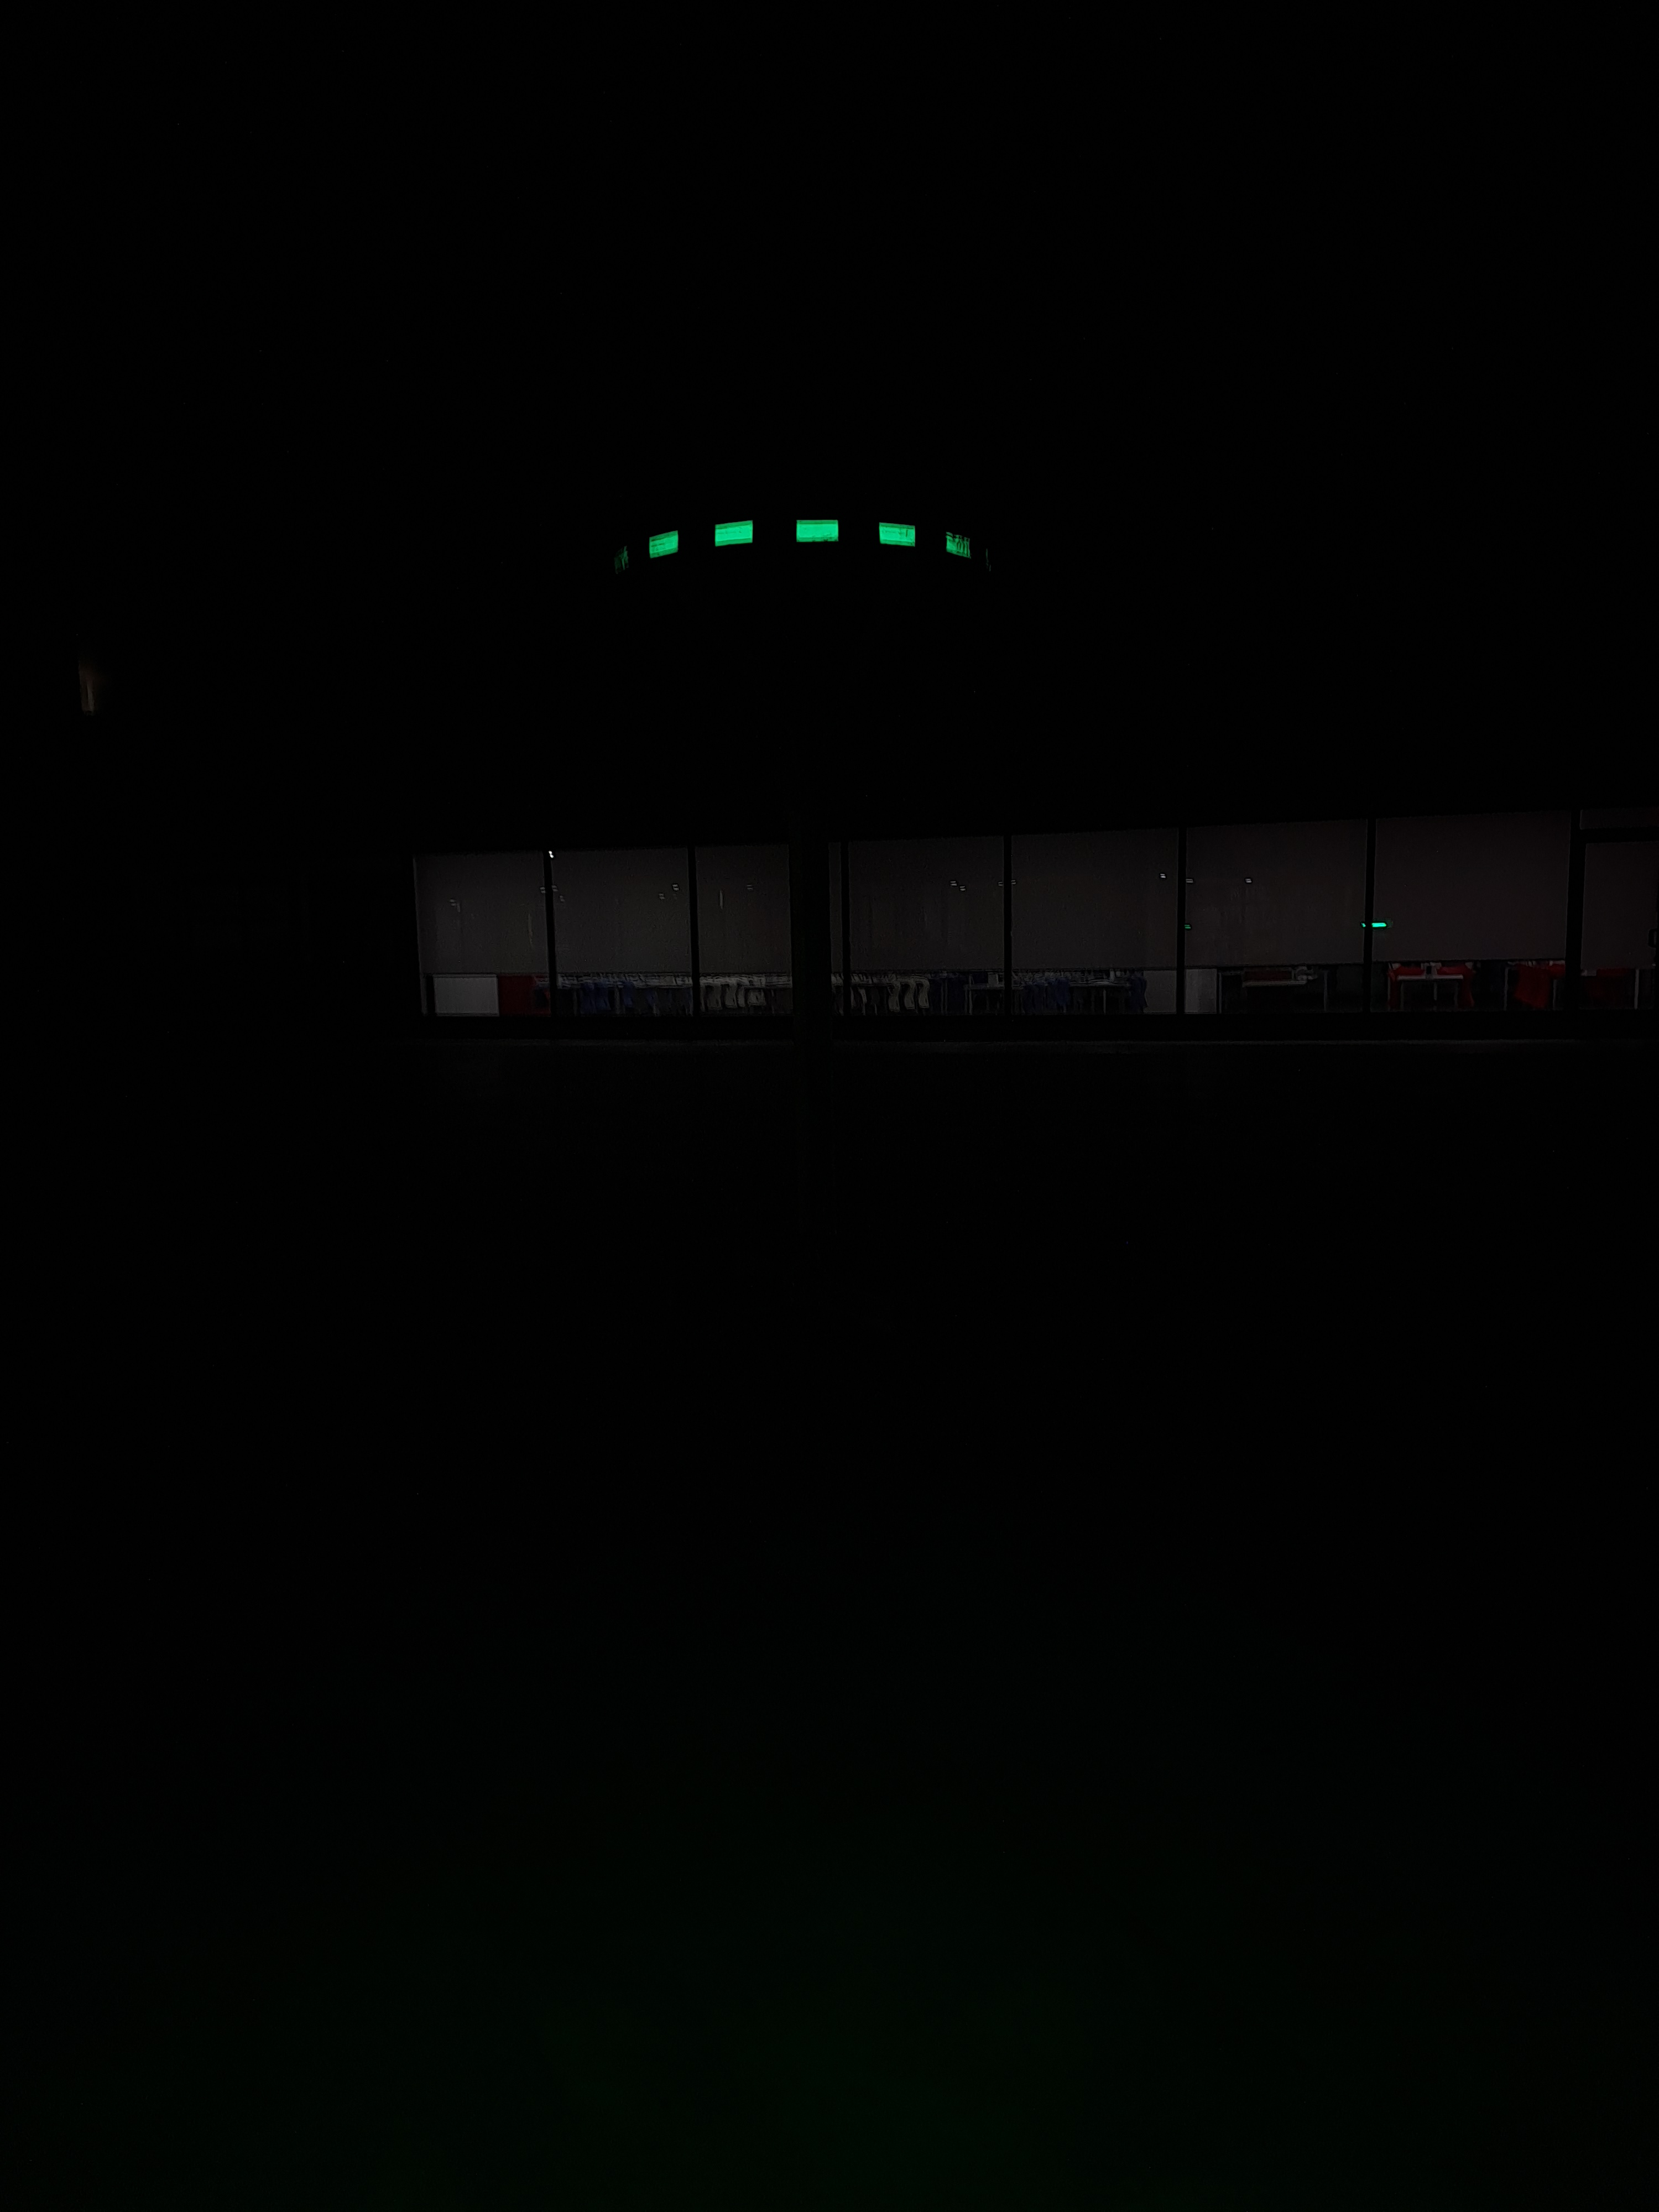hoop: (640, 514, 986, 571)
